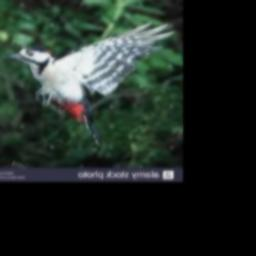Woodpecker: (2, 21, 174, 145)
